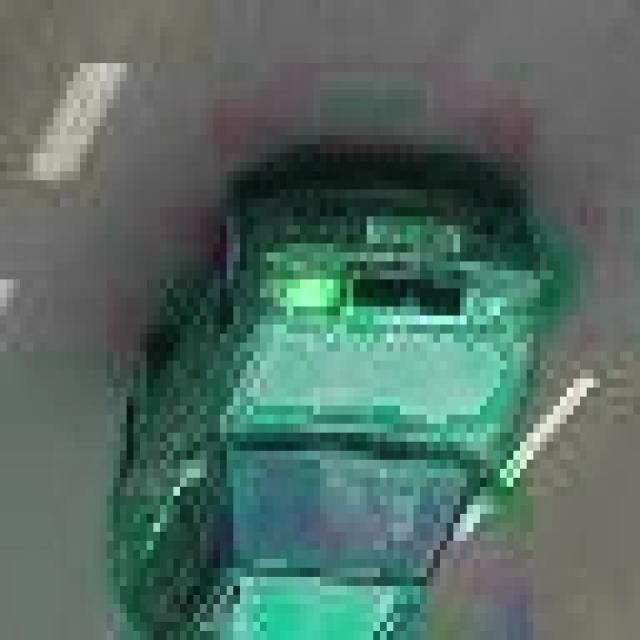green: (107, 144, 540, 640)
